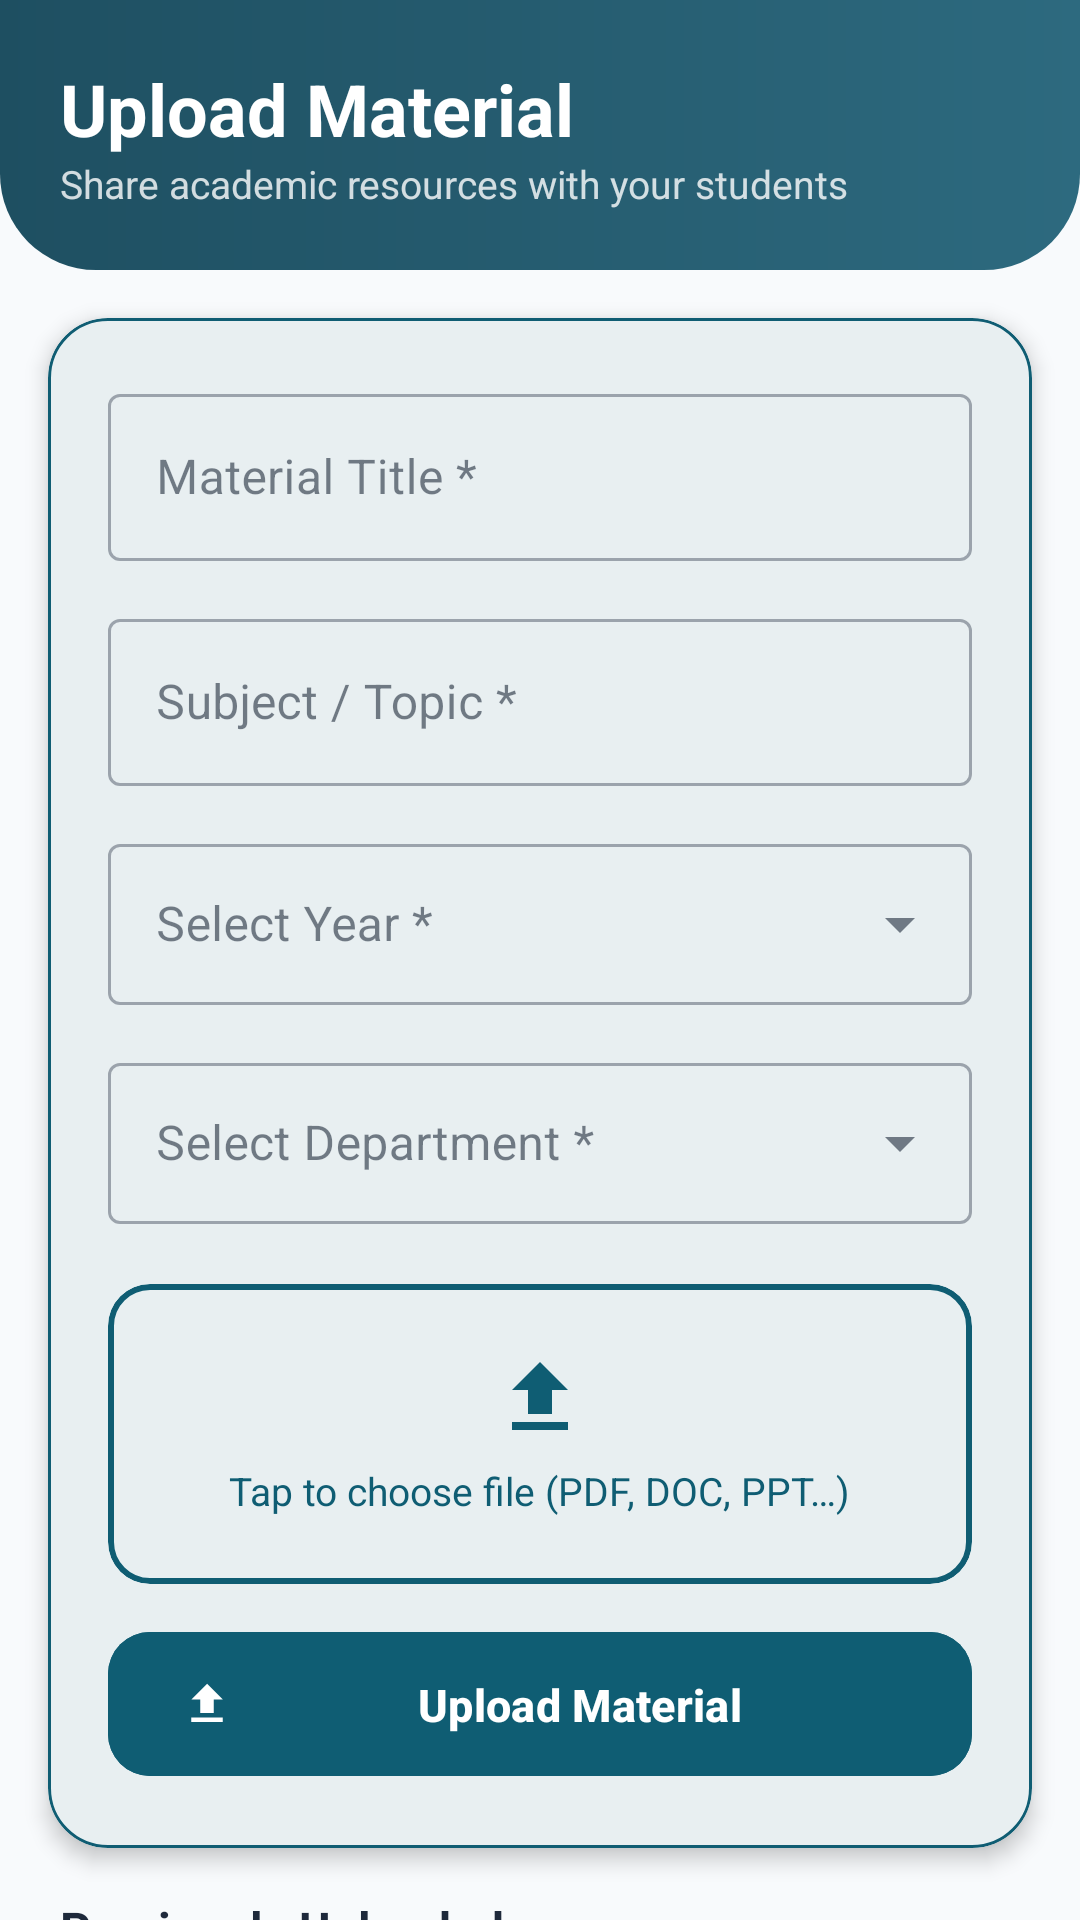

Named icons in this screenshot (1080 × 1920) and their bounding boxes, (x1, y1, x2, y2):
upload: (512, 1362, 568, 1430)
